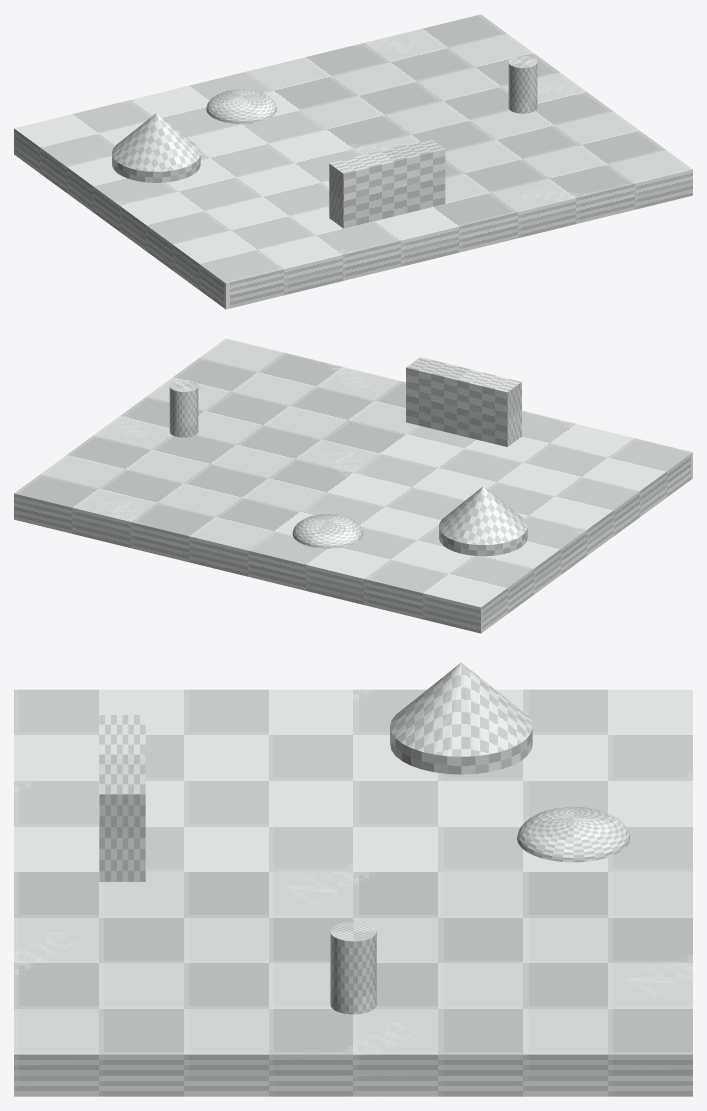
The model's file is test_level.gltf.
3 renders of one model, top to bottom at view 1: azimuth 30°, elevation 25°; view 2: azimuth 150°, elevation 25°; view 3: azimuth 270°, elevation 25°, orthographic. The views are drawn at different scales.
Visible parts, largest first — view 1: Cube, Cube.001, Cylinder.001, Sphere, Cylinder; view 2: Cube, Cube.001, Cylinder.001, Sphere, Cylinder; view 3: Cube, Cylinder.001, Cube.001, Sphere, Cylinder.
Part boxes in pixels (left/top/right/bottom): Cube: left=14, top=14, right=692, bottom=309; Cube.001: left=329, top=138, right=445, bottom=228; Cylinder.001: left=112, top=113, right=200, bottom=182; Sphere: left=206, top=89, right=276, bottom=123; Cylinder: left=508, top=56, right=537, bottom=113; Cube: left=14, top=338, right=692, bottom=633; Cube.001: left=406, top=357, right=521, bottom=446; Cylinder.001: left=439, top=486, right=527, bottom=556; Sphere: left=292, top=514, right=363, bottom=548; Cylinder: left=169, top=380, right=198, bottom=437; Cube: left=14, top=689, right=692, bottom=1096; Cylinder.001: left=390, top=662, right=532, bottom=774; Cube.001: left=99, top=715, right=145, bottom=881; Sphere: left=517, top=806, right=630, bottom=862; Cylinder: left=330, top=921, right=376, bottom=1014.
Bounding box in the file's own units: 37.4 × 7.28 × 29.4.
Materials: 1 (1 with a texture image).
